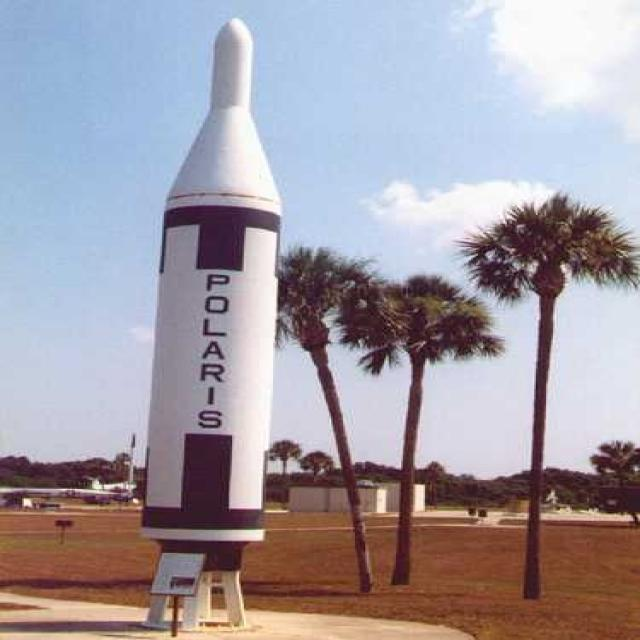missile: (136, 11, 342, 608)
